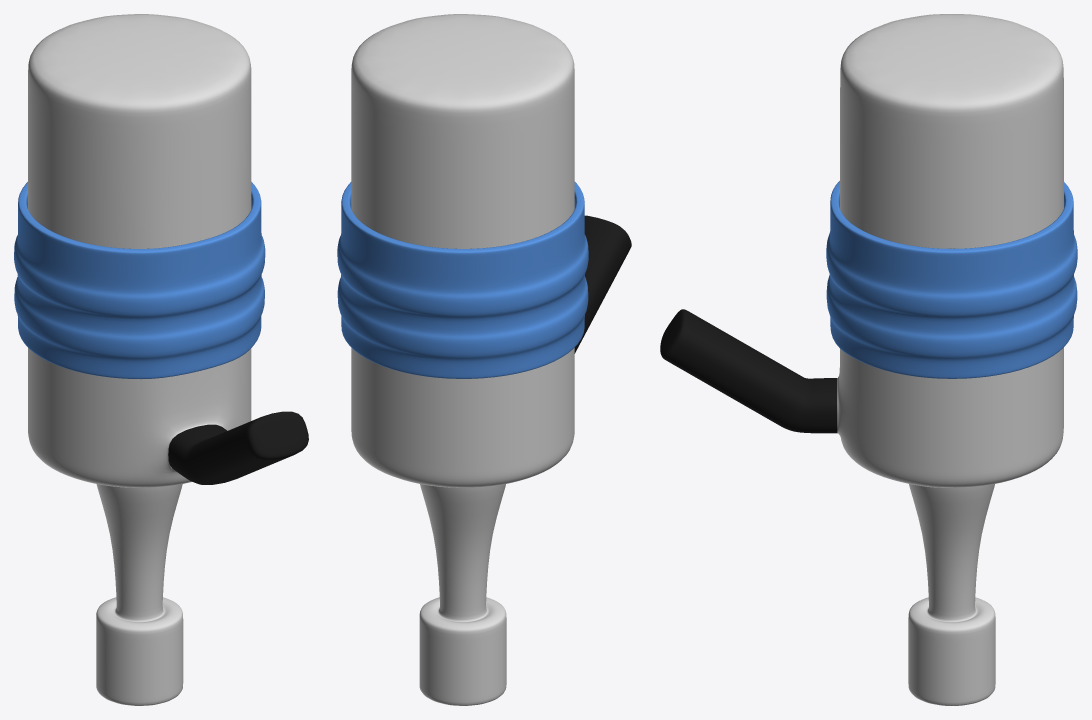
Rendered from IcingMachine1.fbx.
3 renders of one model, left to right at view 1: azimuth 30°, elevation 25°; view 2: azimuth 150°, elevation 25°; view 3: azimuth 270°, elevation 25°, orthographic.
Visible parts, largest first — view 1: Cylinder.011, Cylinder.012, Cylinder.013; view 2: Cylinder.011, Cylinder.012, Cylinder.013; view 3: Cylinder.011, Cylinder.012, Cylinder.013.
Boxes of the visible parts, <box> form: Cylinder.011: <box>28,14,251,705</box>; Cylinder.012: <box>14,182,265,379</box>; Cylinder.013: <box>168,411,308,484</box>; Cylinder.011: <box>351,14,574,705</box>; Cylinder.012: <box>337,181,588,378</box>; Cylinder.013: <box>574,215,631,353</box>; Cylinder.011: <box>837,14,1063,705</box>; Cylinder.012: <box>826,181,1077,378</box>; Cylinder.013: <box>660,309,837,433</box>.
Bounding box in the file's own units: 142 × 397 × 236.
